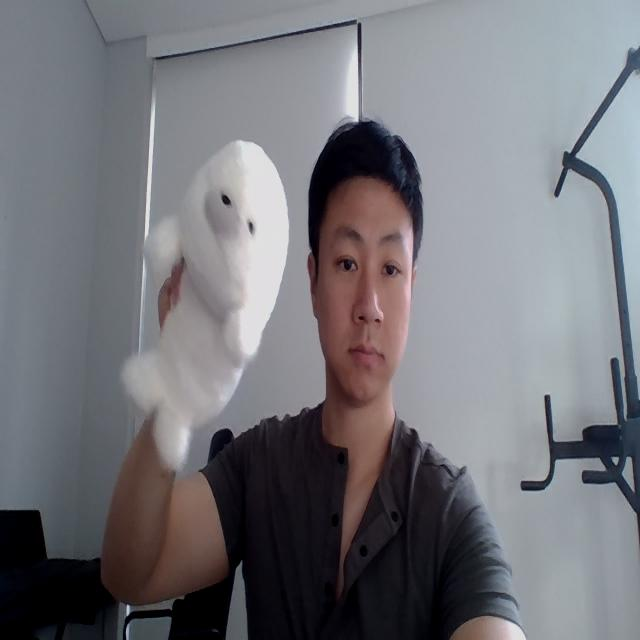seal_bb: (120, 138, 289, 475)
